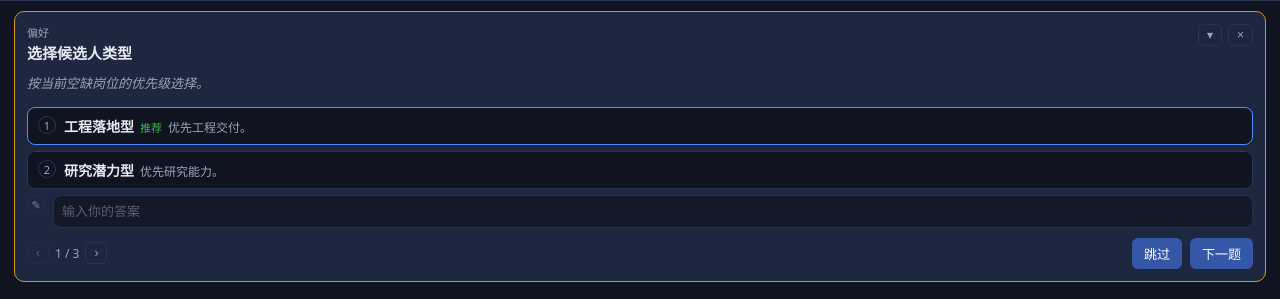
QuestionComposer › surfaces cancellation failures and re-arms the controls
The width and height of the screenshot is (1280, 299).
Step 1. Click the button named "放弃整组问题" → (1240, 35), box x1=1228 y1=24 x2=1253 y2=46
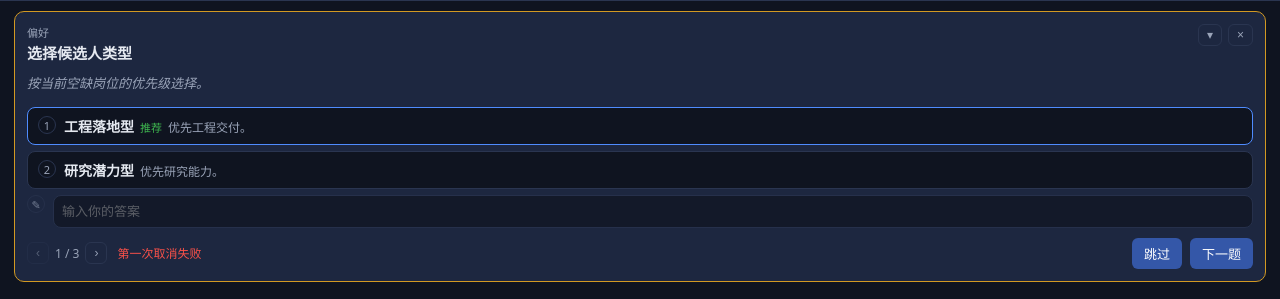
Expected: the button "跳过" is enabled, x1=1132 y1=238 x2=1182 y2=269
Expected: the text "第一次取消失败" is shown, x1=118 y1=245 x2=202 y2=262
Step 2. Click the button named "放弃整组问题" → (1240, 35), box x1=1228 y1=24 x2=1253 y2=46
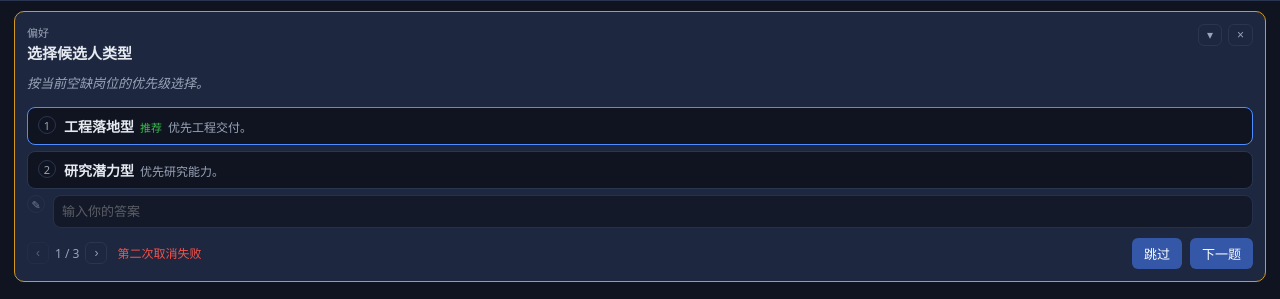
Expected: the text "第二次取消失败" is shown, x1=118 y1=245 x2=202 y2=262
